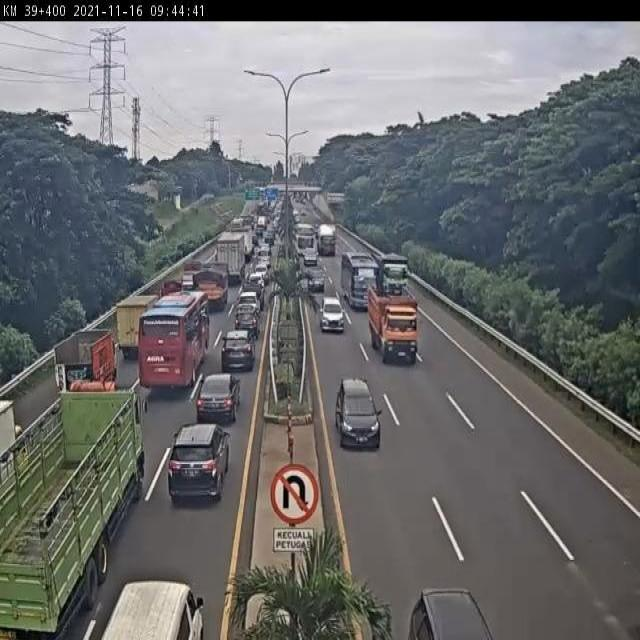Bus: (136, 288, 212, 390), (339, 250, 378, 308), (292, 222, 318, 258)
Car: (405, 581, 495, 640), (167, 423, 232, 503), (334, 378, 380, 449), (196, 371, 242, 423), (220, 330, 257, 374), (233, 305, 261, 341), (320, 297, 346, 333), (237, 290, 262, 318), (241, 277, 265, 306), (305, 269, 326, 293), (245, 271, 265, 293), (302, 246, 320, 268), (253, 262, 270, 280)
Truck: (0, 377, 151, 640), (50, 321, 119, 394), (366, 284, 418, 366), (115, 290, 159, 358), (192, 258, 230, 313), (372, 248, 410, 294), (215, 232, 248, 284), (0, 396, 23, 458), (230, 223, 253, 263), (181, 258, 202, 290), (317, 223, 337, 256)
Van: (100, 579, 205, 640)
